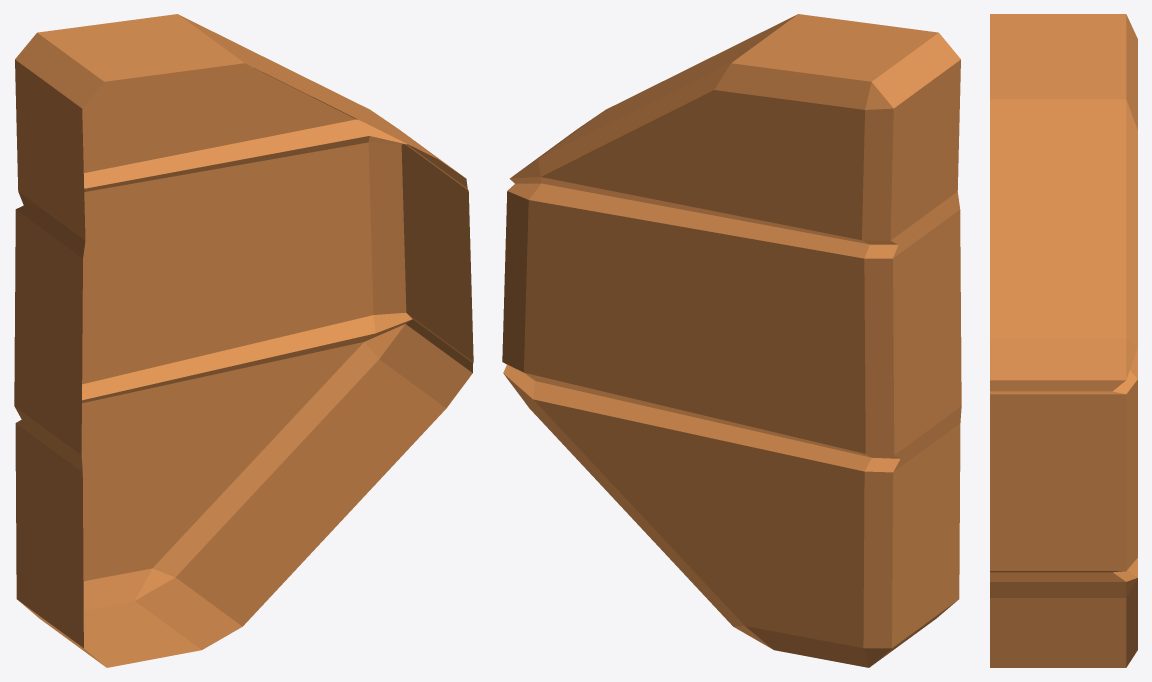
The model's file is tiandi.fbx.
The picture shows the model from 3 angles, left to right: view 1: azimuth 30°, elevation 25°; view 2: azimuth 150°, elevation 25°; view 3: azimuth 270°, elevation 25°; orthographic projection.
Parts seen in each view (by area): view 1: tiandi; view 2: tiandi; view 3: tiandi.
Part boxes in pixels (bbox=[...]): tiandi: bbox=[14, 14, 473, 667]; tiandi: bbox=[502, 14, 961, 667]; tiandi: bbox=[990, 14, 1137, 667].
Bounding box in the file's own units: 88.39 × 128 × 28.49.
